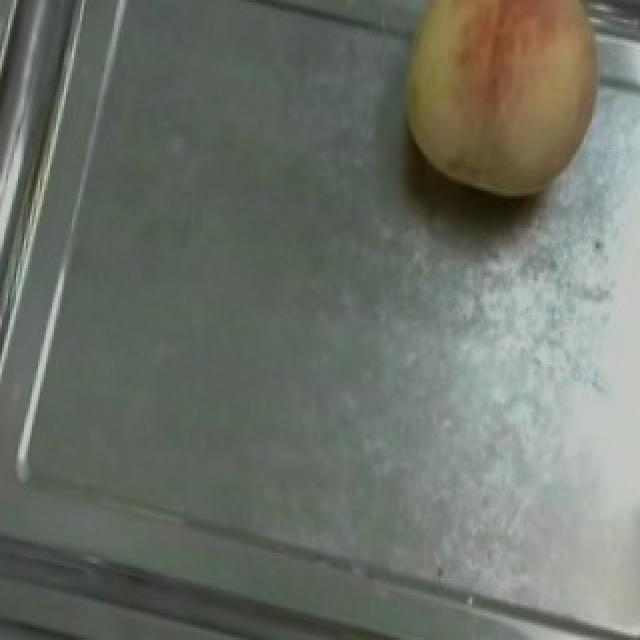Fruit: (366, 0, 622, 223)
